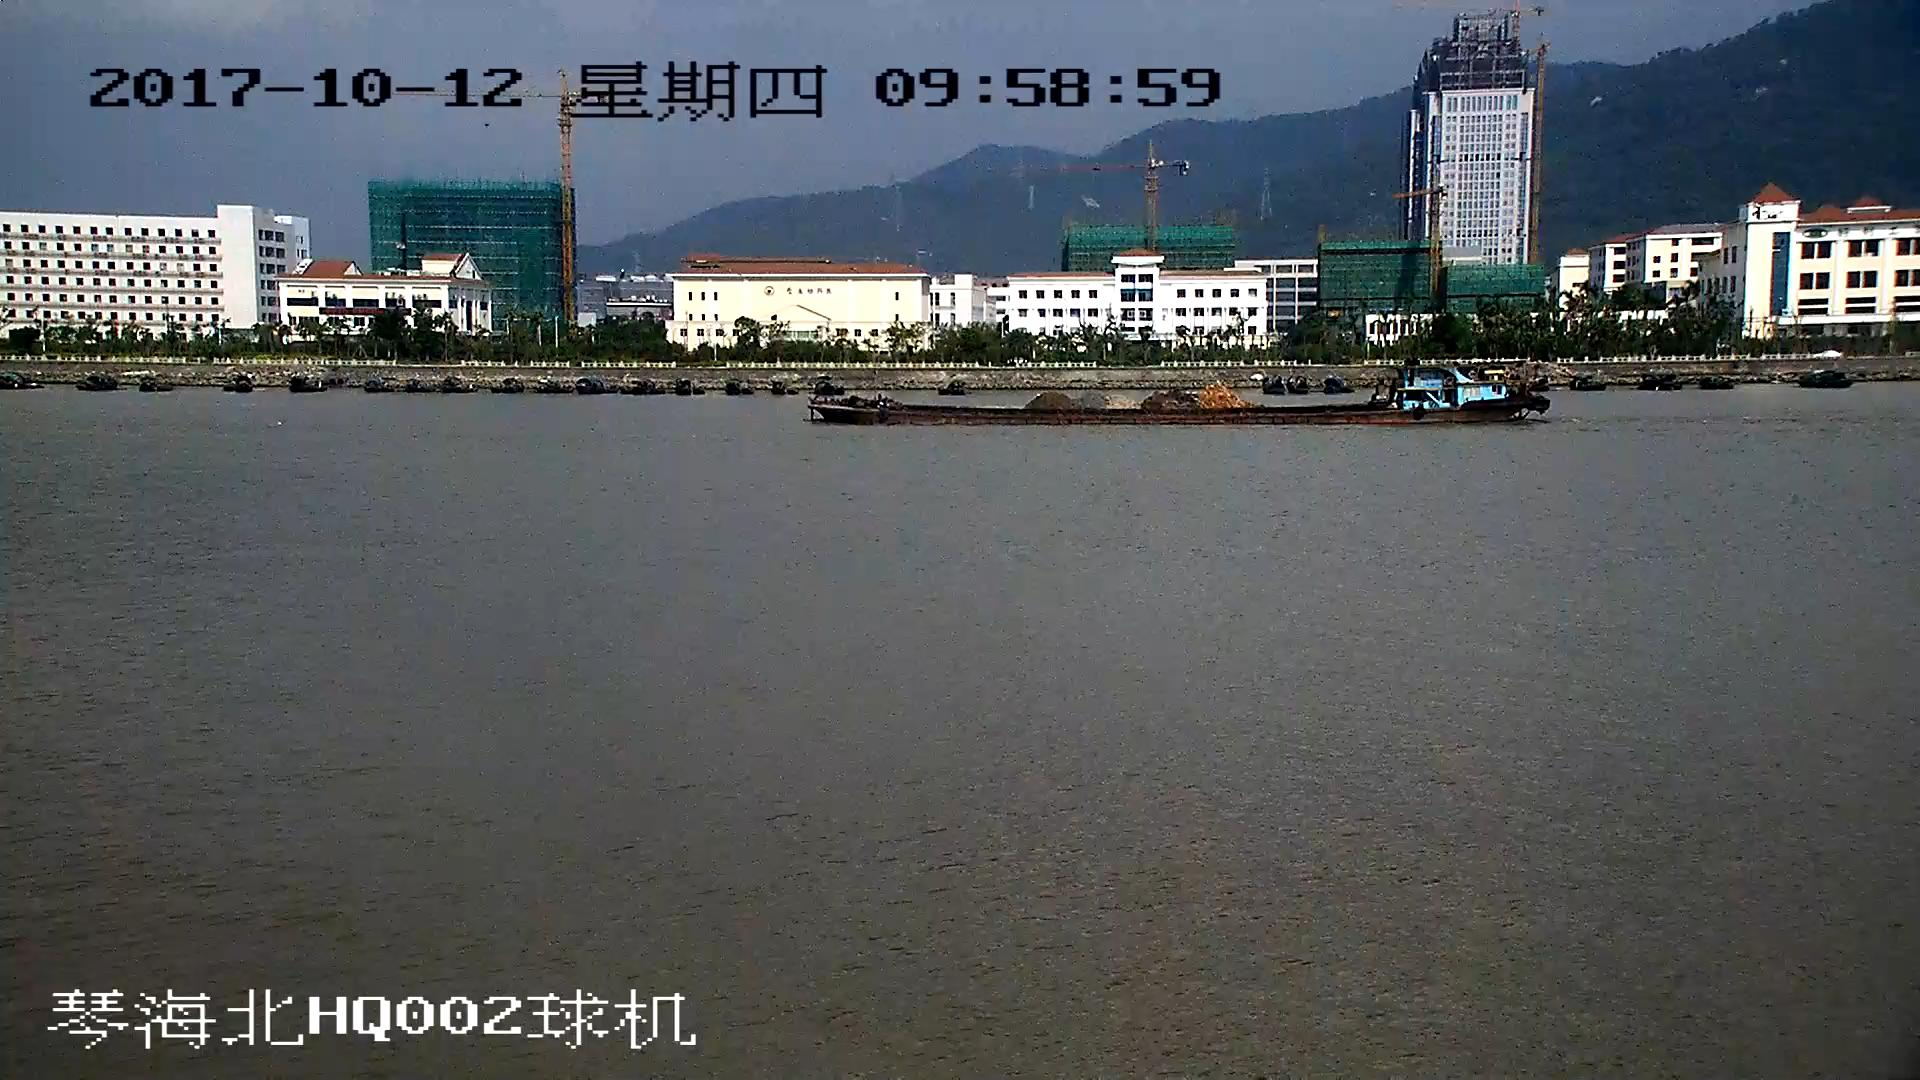ore carrier: (811, 359, 1552, 423)
